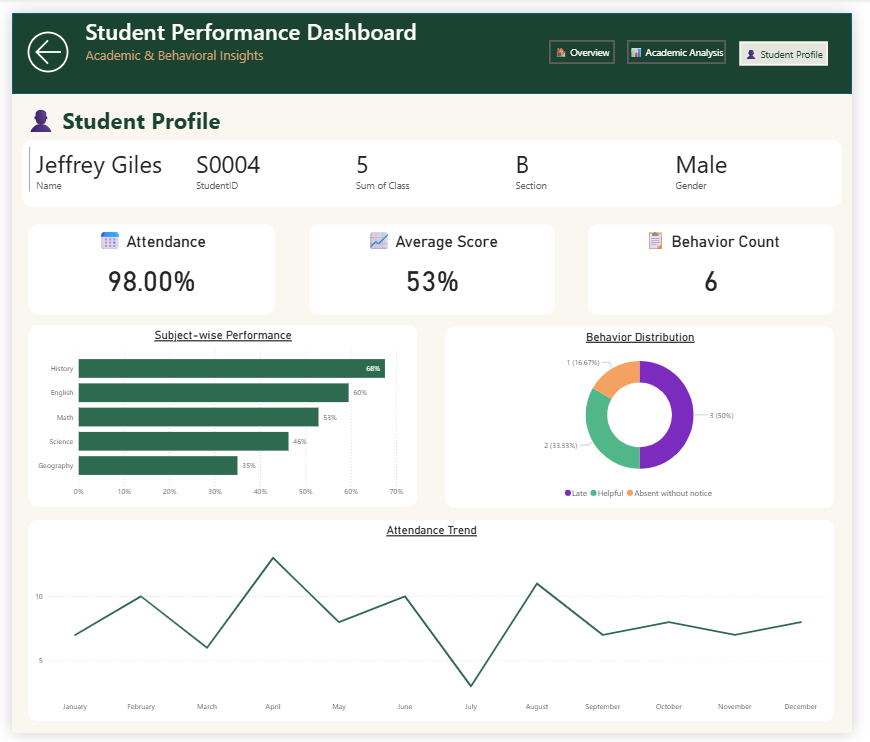

Layout of this report page (visuals, bound fields, positions):
{"tool":"powerbi","page":{"name":"Student Profile","canvas":[1400,1200],"ordinal":2},"visuals":[{"type":"shape","box":[0,0,1400,135],"z":0},{"type":"textbox","box":[118.3,0,578.3,88.3],"z":1000},{"type":"actionButton","box":[895,45,110,40],"z":2000},{"type":"actionButton","box":[1212.5,47.5,147.5,40],"z":3000},{"type":"actionButton","box":[1025,45,165,40],"z":4000},{"type":"textbox","box":[17.5,152.5,1382.5,60],"z":5000},{"type":"actionButton","box":[17.5,22.5,100,85],"z":6000},{"type":"multiRowCard","fields":{"Values":["Students.Name","Students.StudentID","Sum(Students.Class)","Students.Section","Students.Gender"]},"box":[17.5,212.5,1365,110],"z":7000},{"type":"card","title":"📅 Attendance","fields":{"Values":["Measure.Attendance"]},"box":[27.5,352.5,410,150],"z":8000},{"type":"card","title":"📋 Behavior Count","fields":{"Values":["Measure.Behavior Count"]},"box":[960,352.5,410,150],"z":9000},{"type":"card","title":"📈 Average Score","fields":{"Values":["Measure.Average Score"]},"box":[495,352.5,410,150],"z":10000},{"type":"clusteredBarChart","title":"Subject-wise Performance","fields":{"Category":["Scores.Subject"],"Y":["Measure.Average Score"]},"box":[27.5,520,647.5,302.5],"z":11000},{"type":"donutChart","title":"Behavior Distribution","fields":{"Category":["Behavior.BehaviorType"],"Y":["CountNonNull(Behavior.BehaviorType)"]},"box":[722.5,522.5,647.5,302.5],"z":12000},{"type":"lineChart","title":"Attendance Trend","fields":{"Category":["Attendance.Date.Variation.Date Hierarchy.Year","Attendance.Date.Variation.Date Hierarchy.Quarter","Attendance.Date.Variation.Date Hierarchy.Month","Attendance.Date.Variation.Date Hierarchy.Day"],"Y":["Measure.Present Count"]},"box":[27.5,845,1342.5,335],"z":13000}]}

Visuals, with their boxes in screenshot pixels (x1, y1, x2, y2), scaled from the page's 1400x1200 canvas onto the 870x742 screenshot:
shape: 0/0/869/83
textbox: 74/0/433/55
actionButton: 556/28/625/53
actionButton: 753/29/845/54
actionButton: 637/28/740/53
textbox: 11/94/869/131
actionButton: 11/14/73/66
multiRowCard - Students.Name x Students.StudentID: 11/131/859/199
"📅 Attendance" card: 17/218/272/311
"📋 Behavior Count" card: 597/218/851/311
"📈 Average Score" card: 308/218/562/311
"Subject-wise Performance" clusteredBarChart: 17/322/419/509
"Behavior Distribution" donutChart: 449/323/851/510
"Attendance Trend" lineChart: 17/522/851/730
